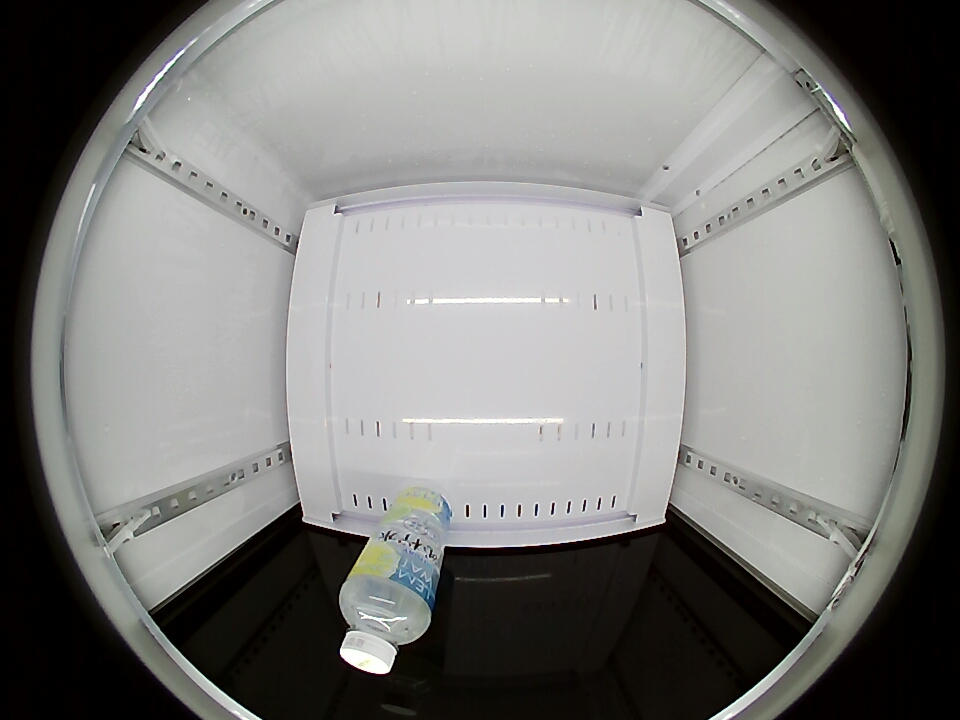qinningshui: (338, 565, 435, 676)
